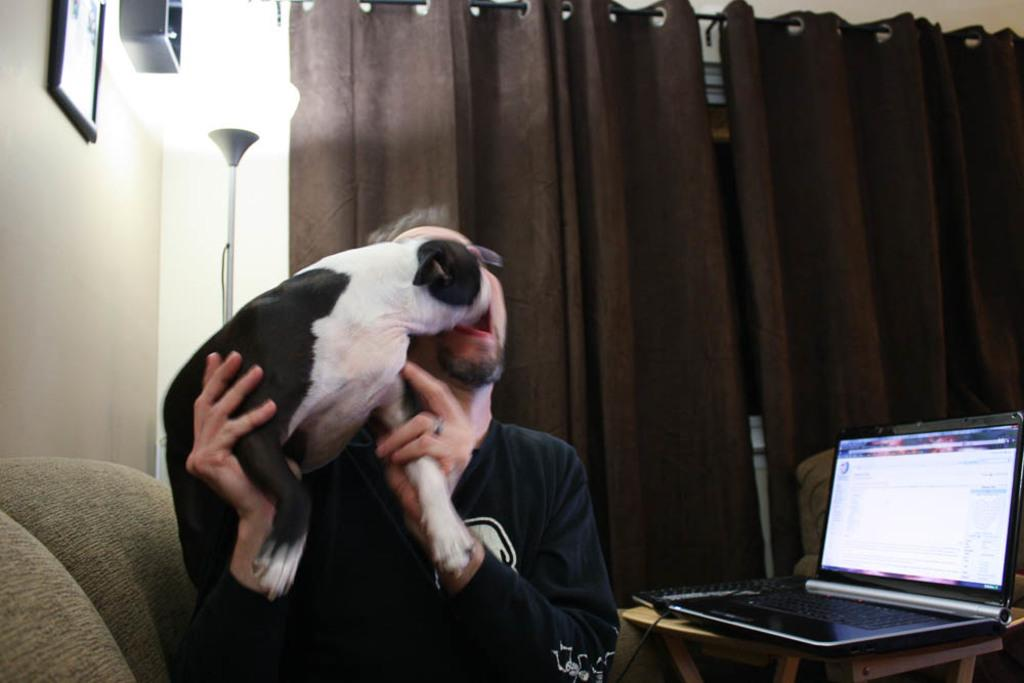Laptop: (648, 416, 1017, 669)
